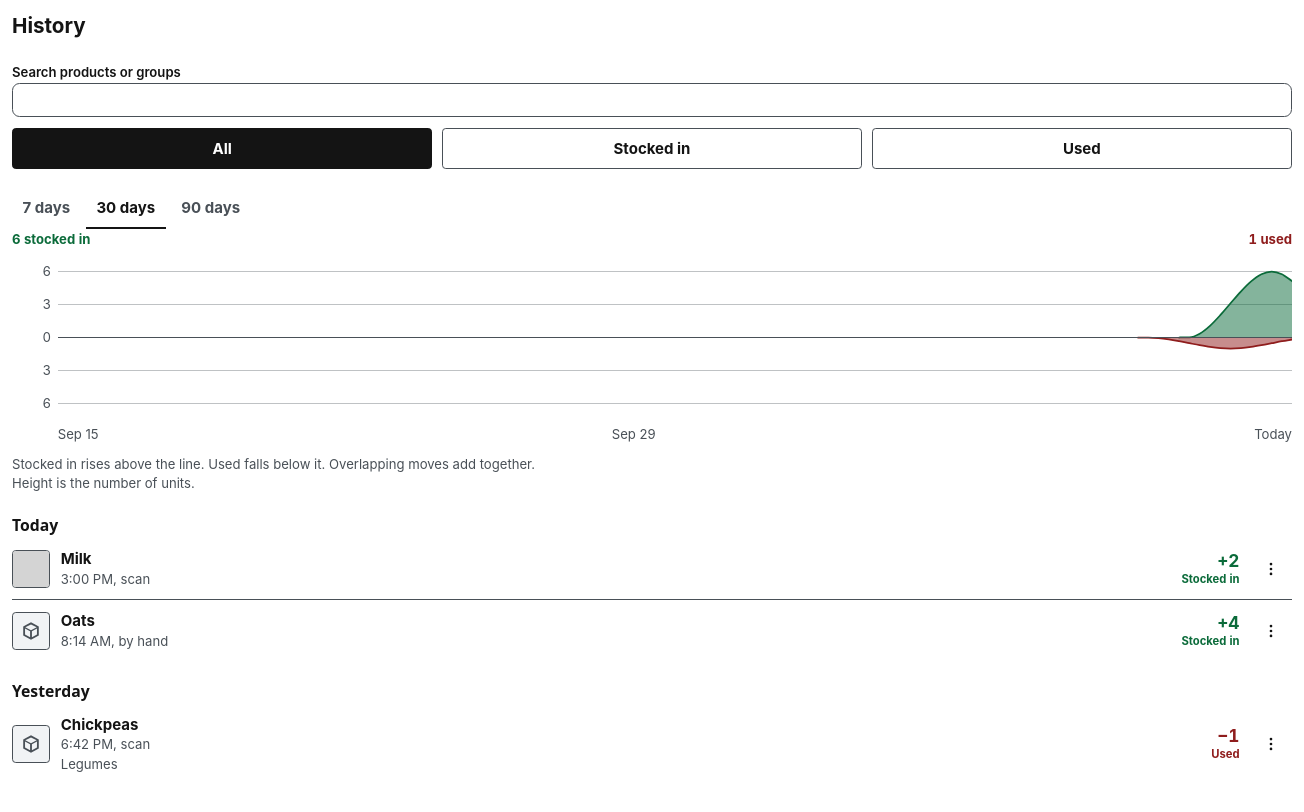
Test: LedgerPage › filters by direction and by a product or group name
Check: the text "Chickpeas" is shown, box [61, 715, 138, 734]
Click the button "Used" at (1082,149), box [872, 128, 1292, 169]
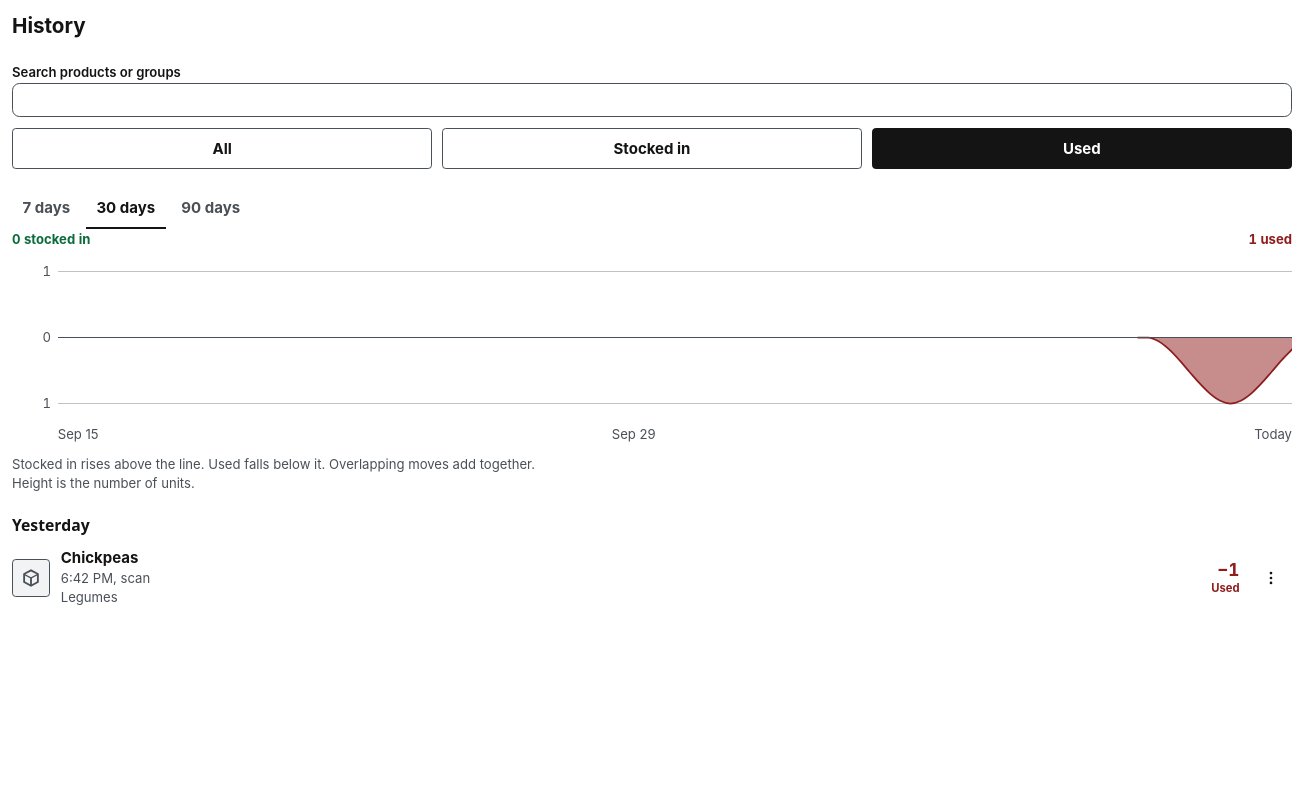
Check: the text "Chickpeas" is shown, box [61, 548, 138, 568]
Check: the text "Milk" is gone
Click the button "All" at (222,149), box [12, 128, 432, 169]
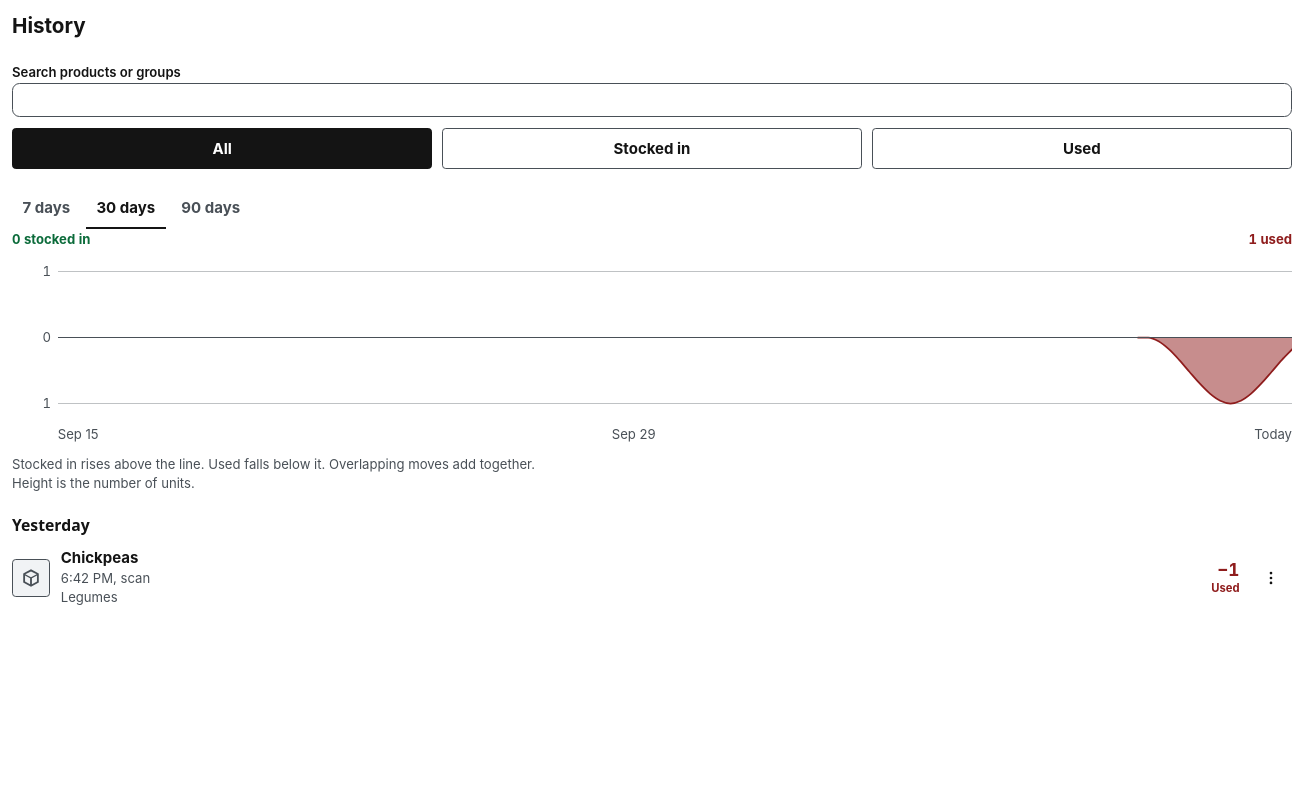
Type "legume" into the field labelled "Search products or groups" at (652,100), box [12, 83, 1292, 117]
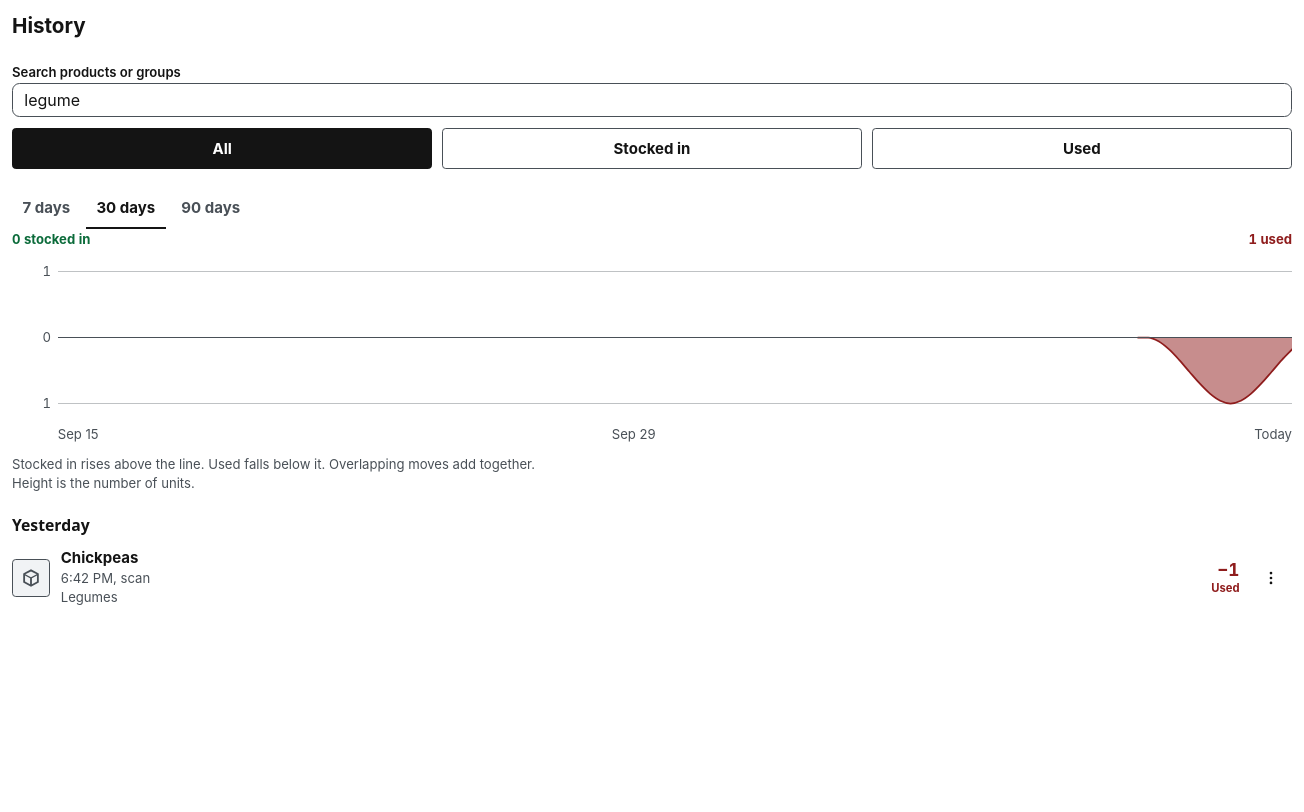
Check: the text "Oats" is not shown
Check: the text "Chickpeas" is shown, box [61, 548, 138, 568]
Replace the text in the field labelled "Search products or groups" with "oat" at (652,100), box [12, 83, 1292, 117]
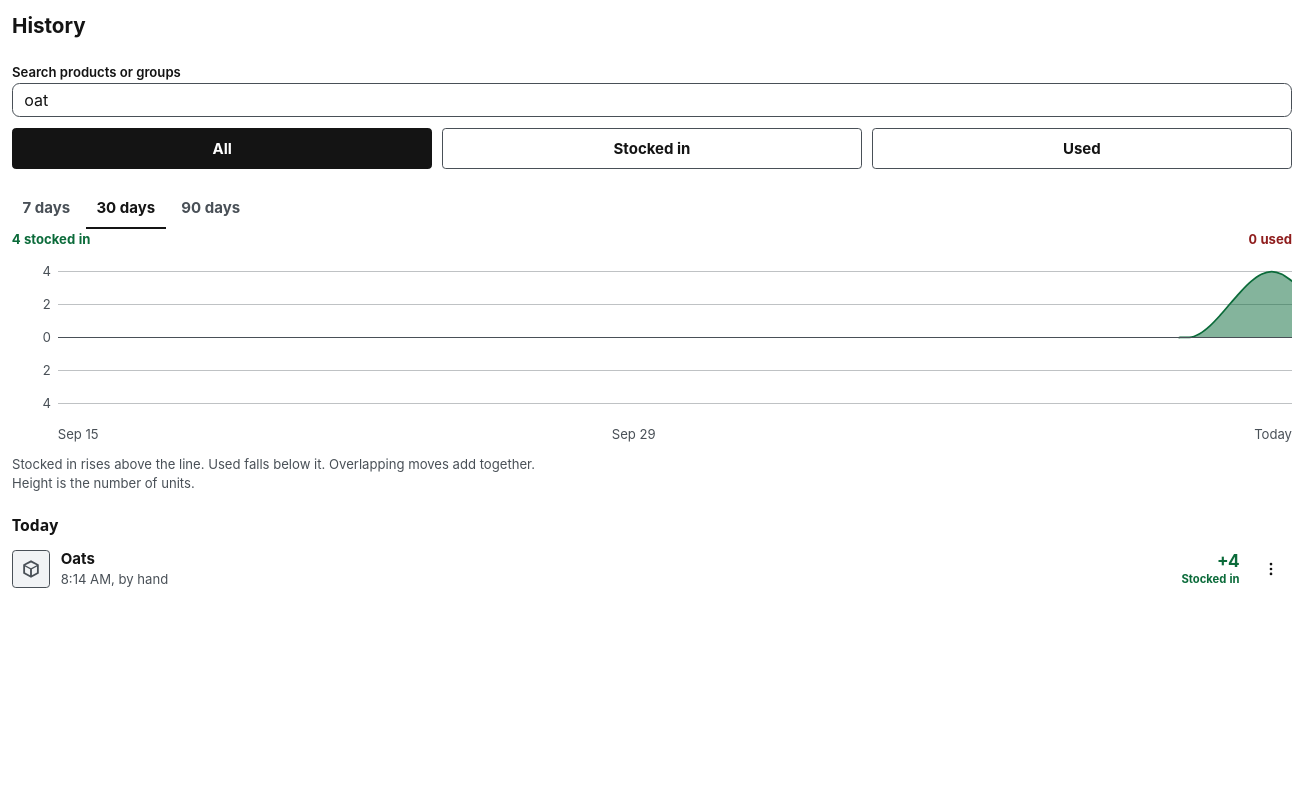
Check: the text "Chickpeas" is gone
Check: the text "Oats" is shown, box [61, 549, 95, 568]
